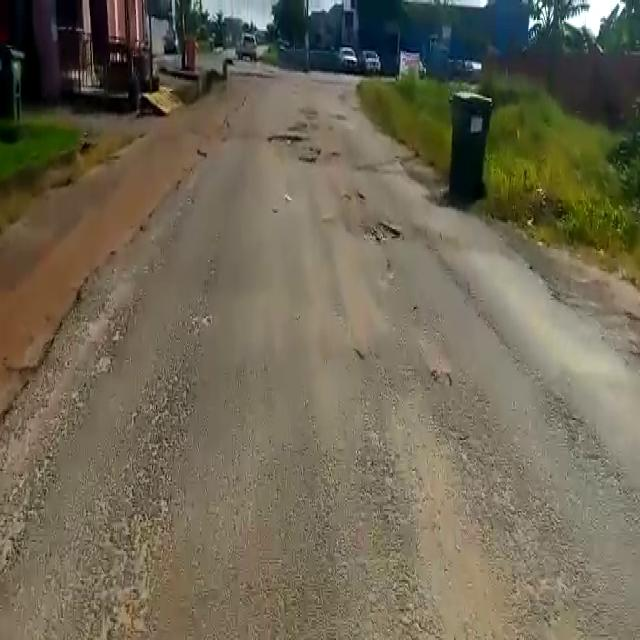Pothole: (366, 217, 402, 244), (266, 129, 306, 145), (296, 154, 318, 167)
